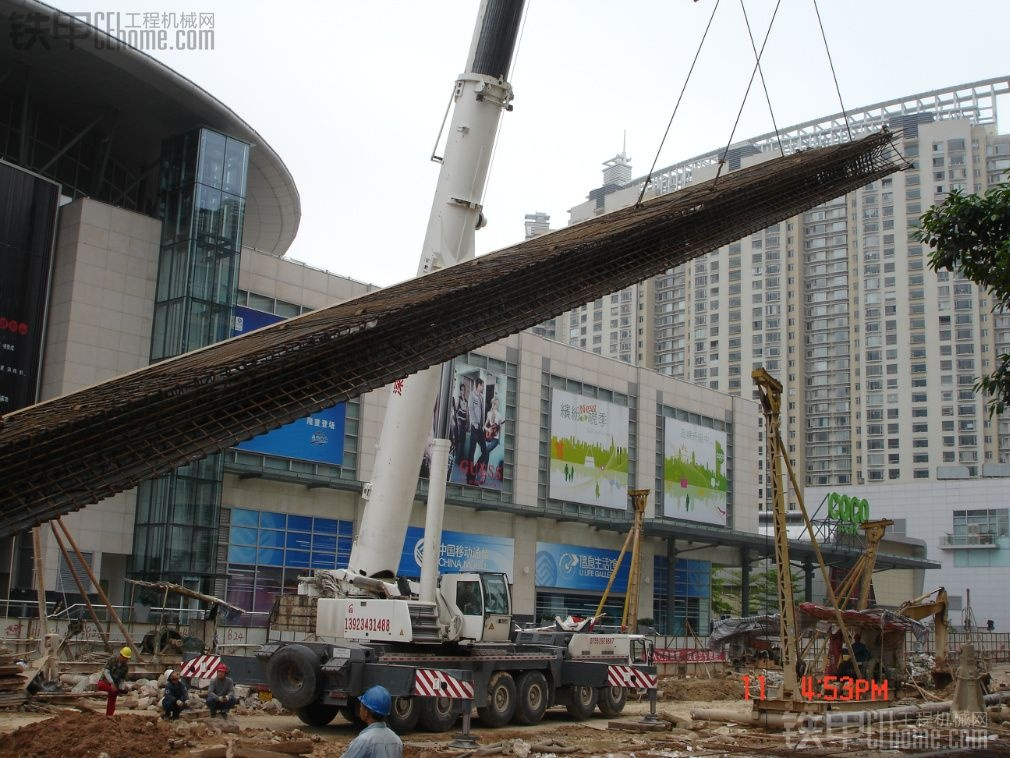blue: (356, 685, 393, 724)
red: (216, 662, 228, 679)
white: (164, 667, 179, 682)
yellow: (117, 646, 131, 662)
